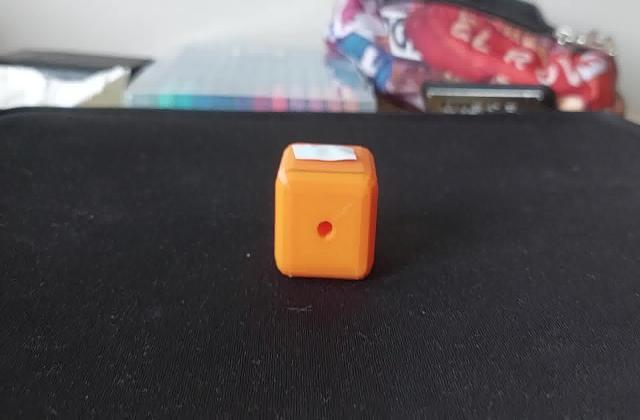cube: (268, 140, 379, 284)
white: (291, 144, 359, 166)
